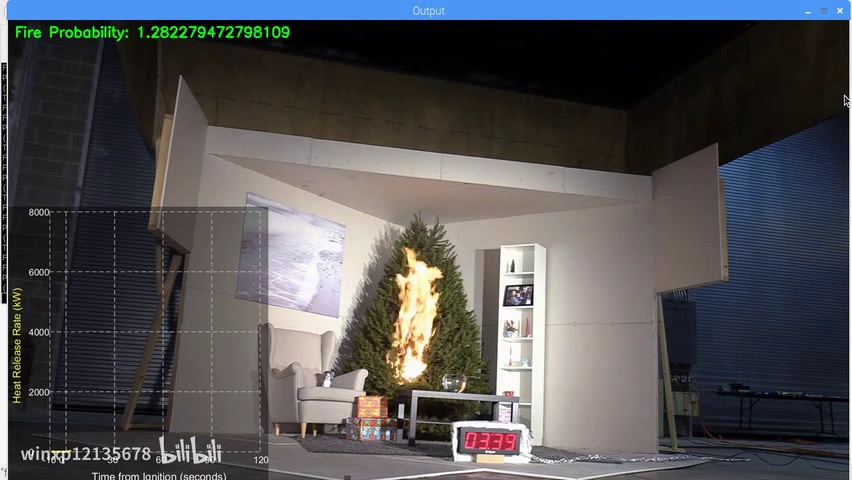fire: (385, 242, 444, 388)
